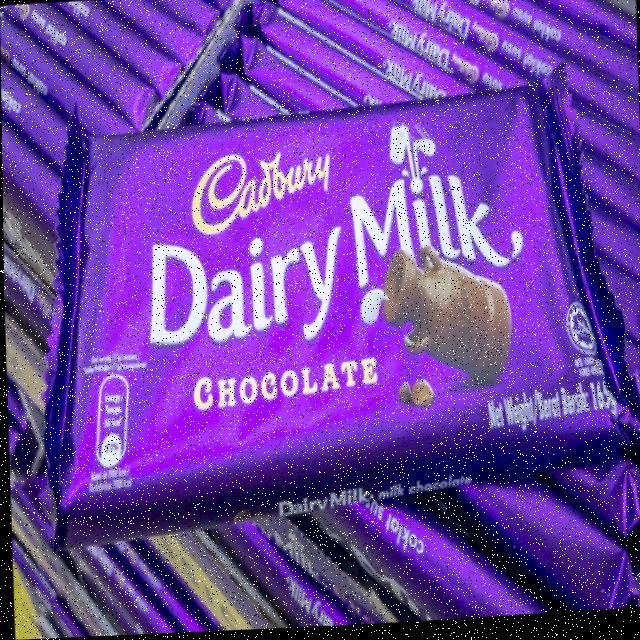cadbury: (46, 94, 640, 520)
